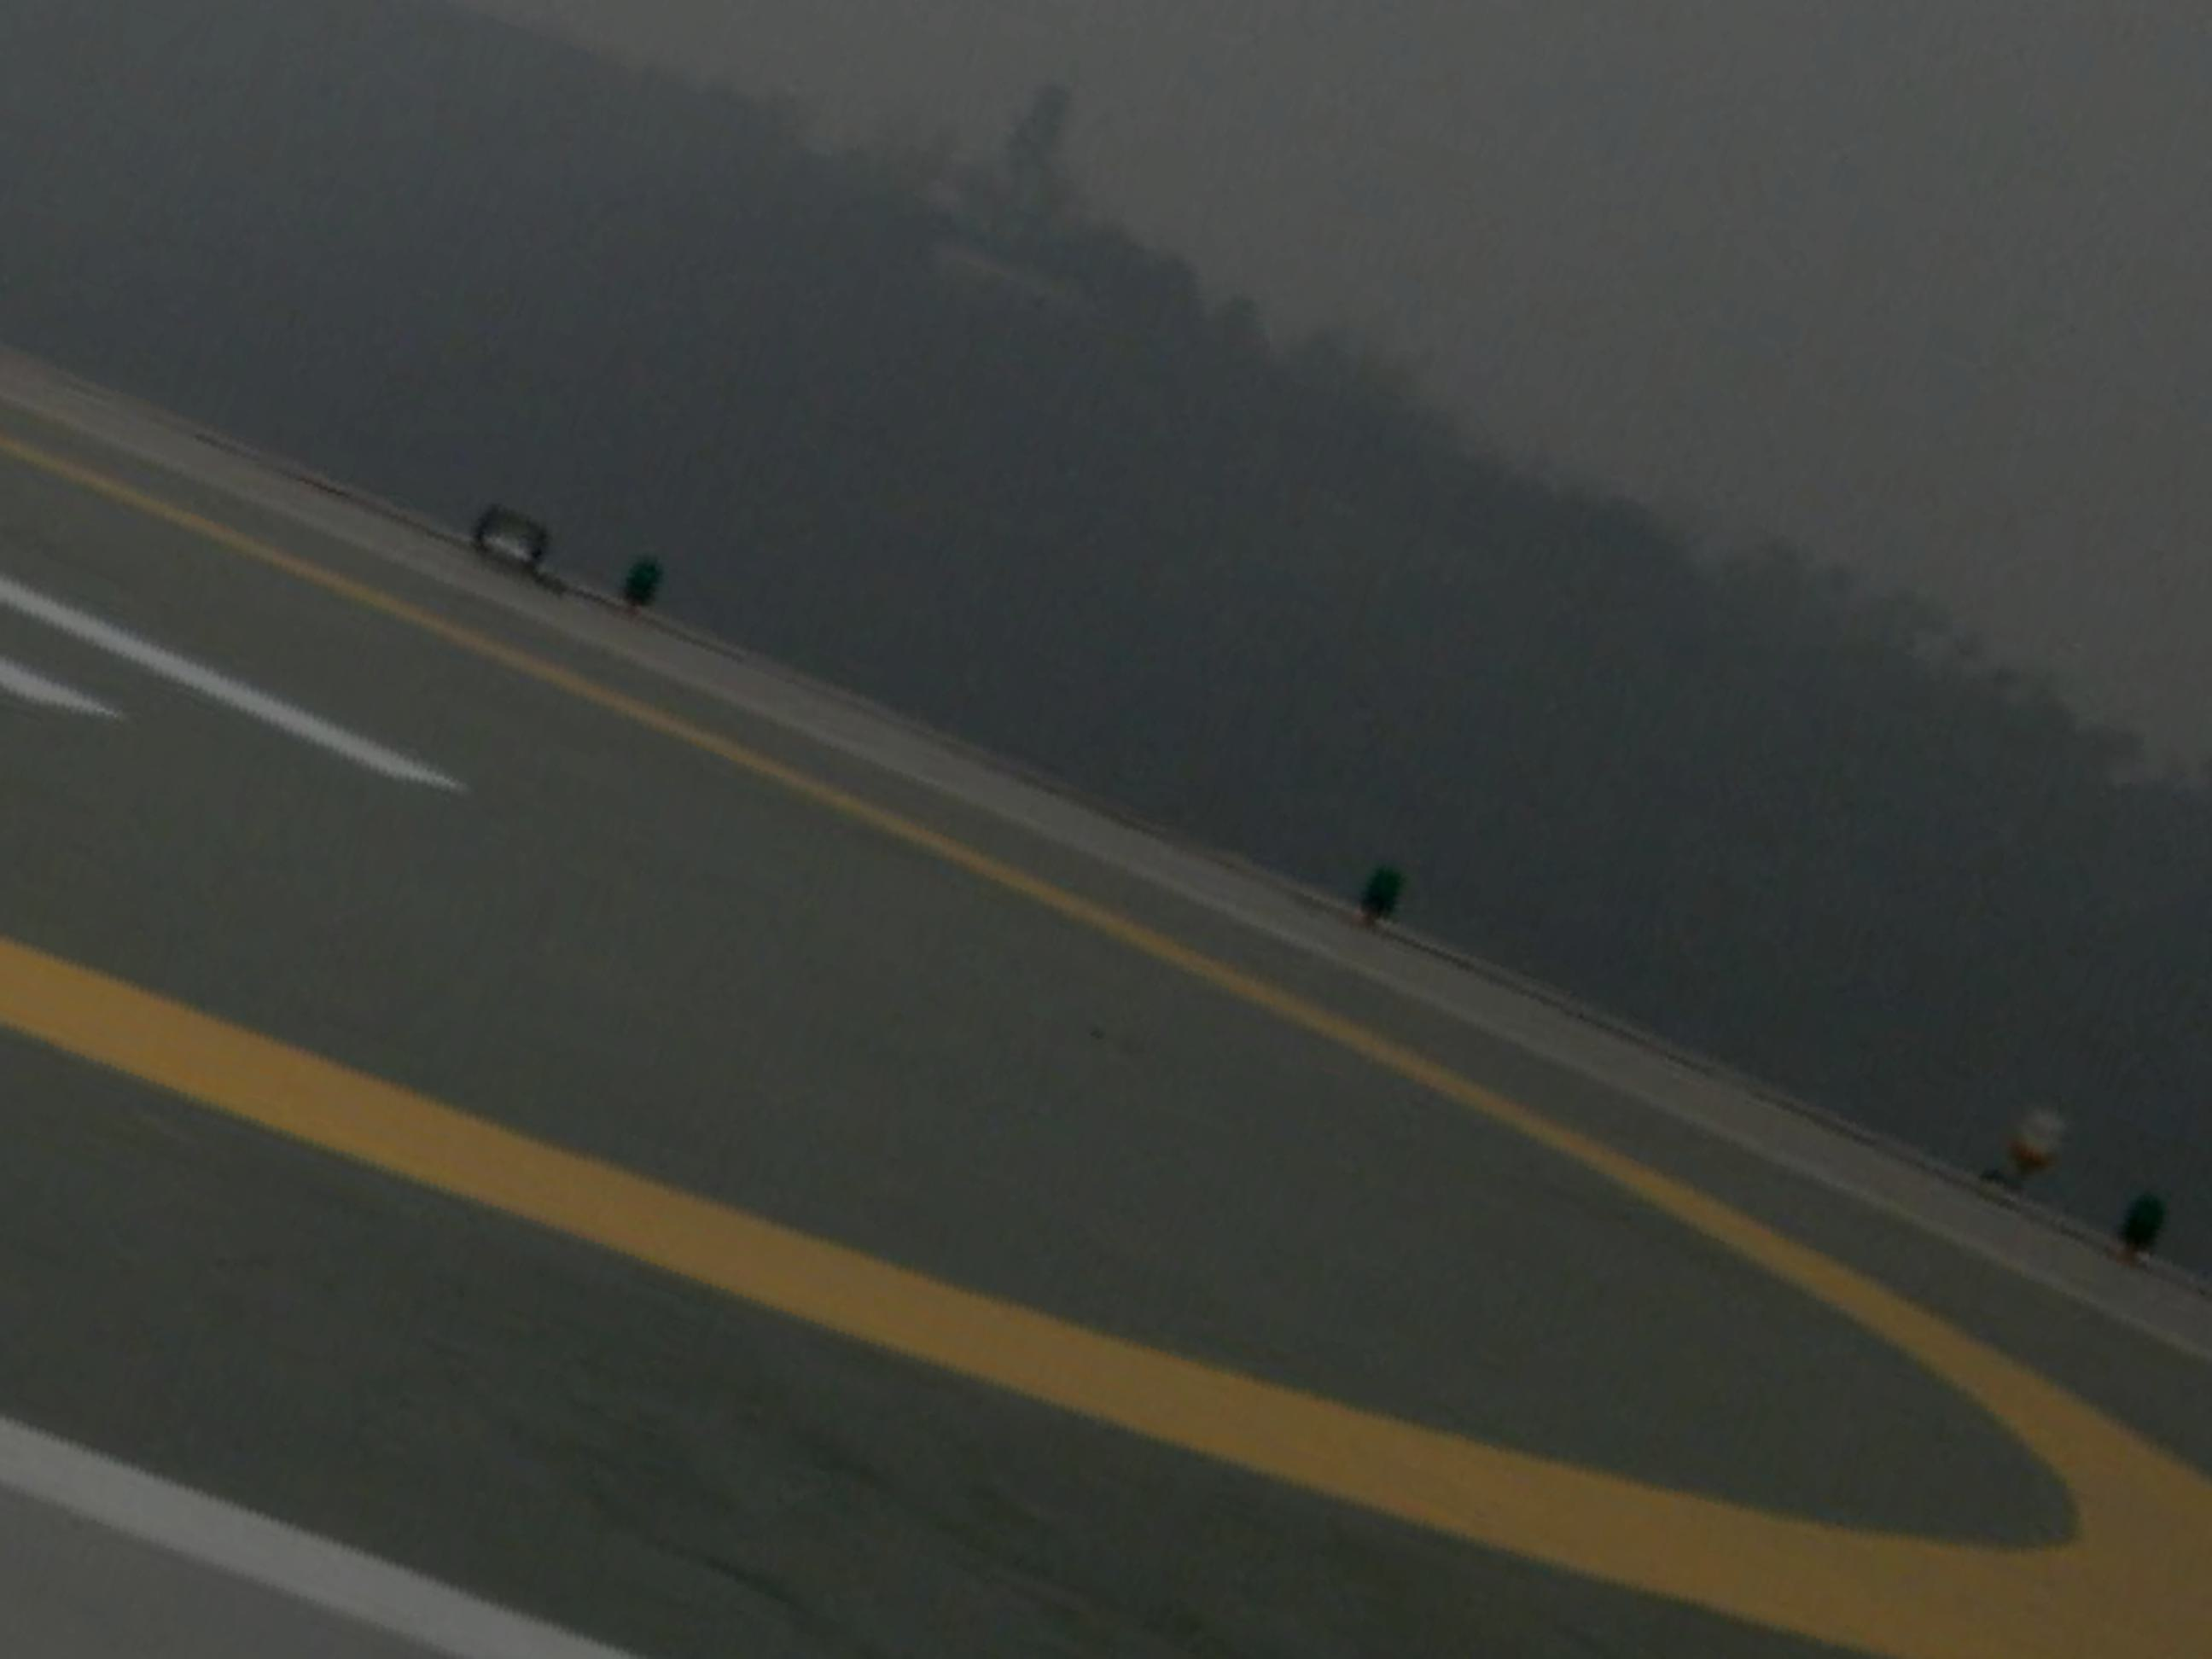Apron: (0, 394, 2210, 1650)
